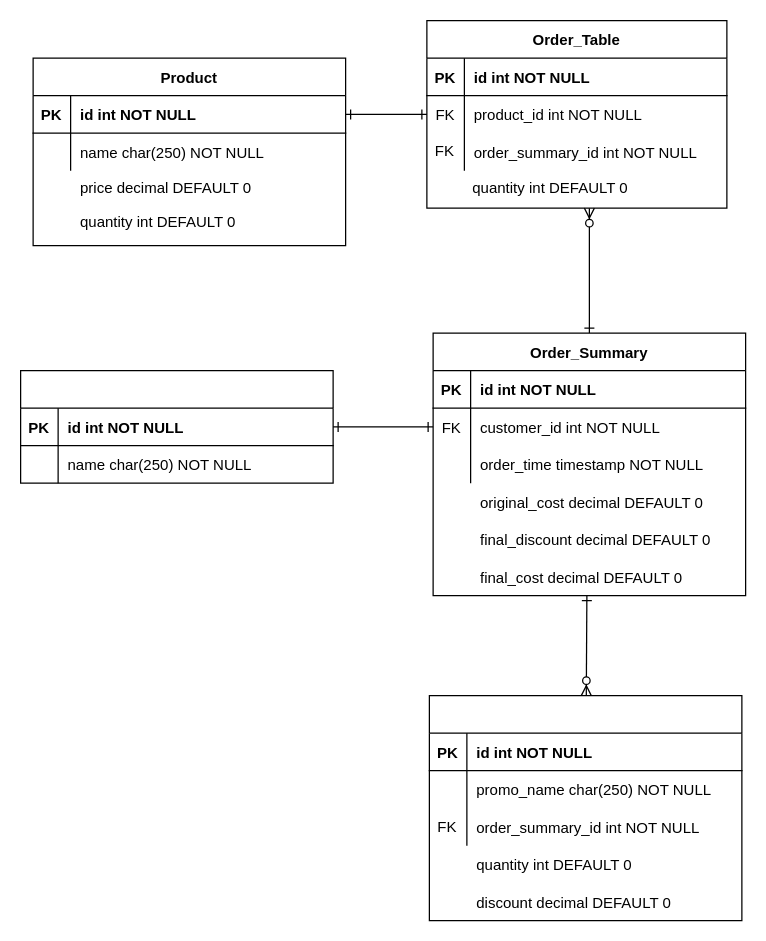
The diagram is 766 pixels wide and 941 high, and some of its shapes have lost their labels. The box of each missing label's shape, as (x1, y1, x2, y2) in pixels:
Customer: (19, 369, 333, 483)
Order_Promo: (428, 694, 742, 921)
